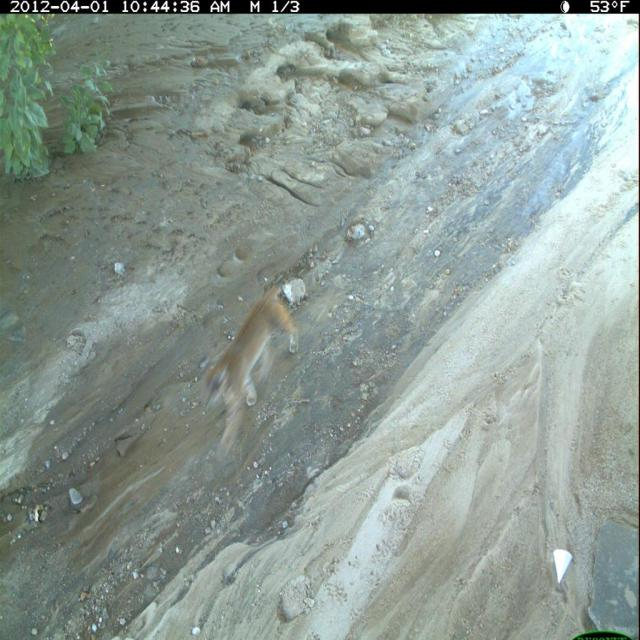bobcat: (200, 282, 305, 467)
